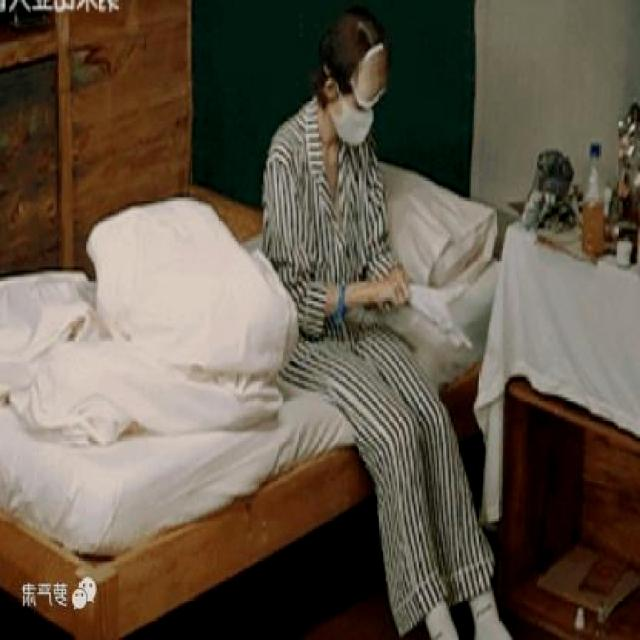face_mask: (322, 92, 382, 148)
hand_noglove: (374, 268, 411, 312)
head_nohelmet: (318, 10, 397, 92)
person: (257, 6, 515, 640)
